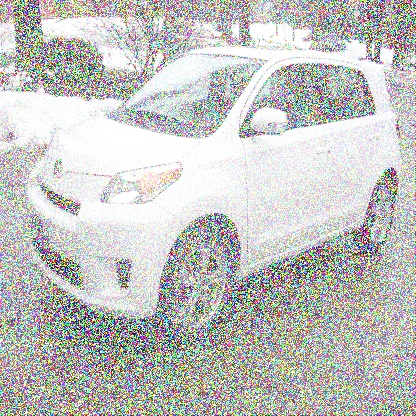Vehicle: (24, 43, 403, 343)
